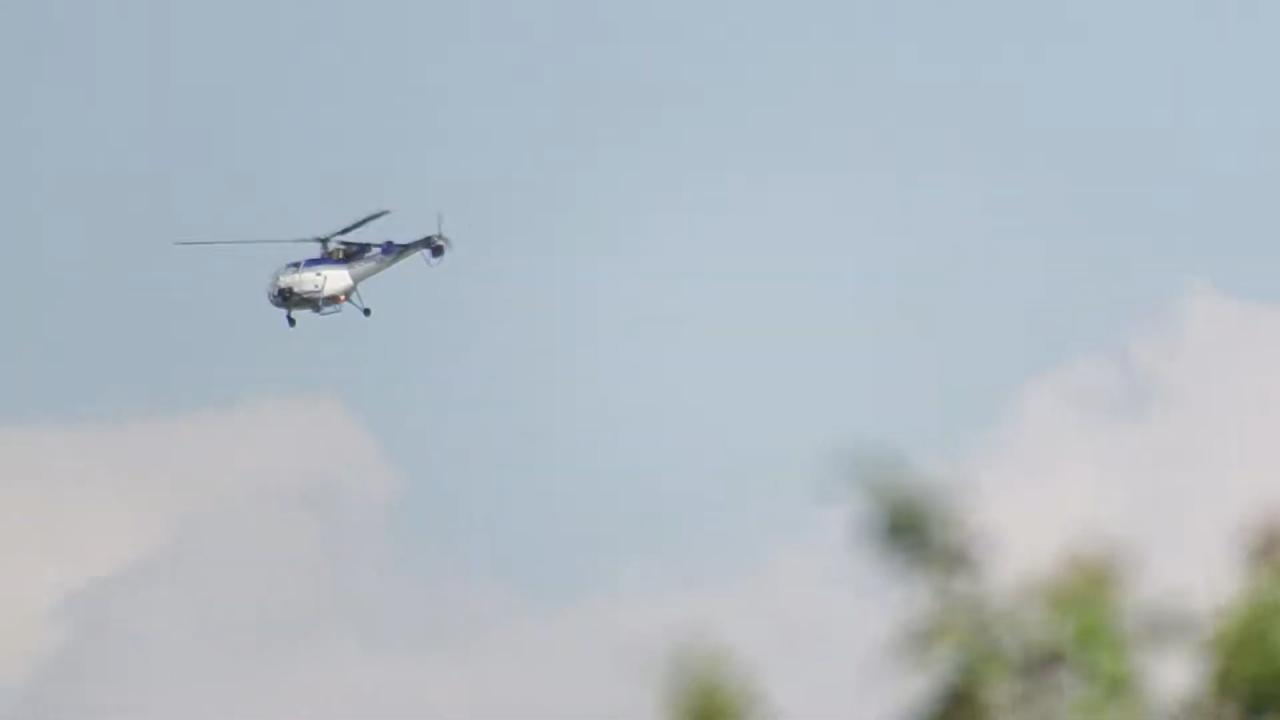Helicopter: (162, 180, 474, 352)
